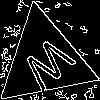W: (19, 35, 83, 100)
